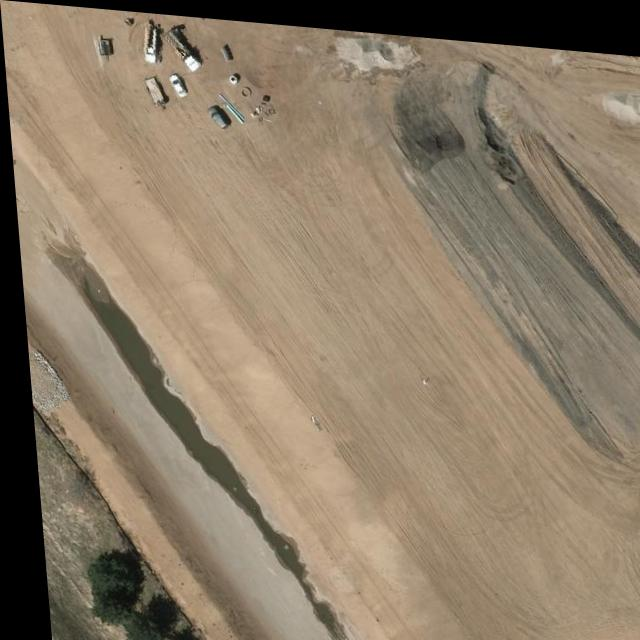vehicle: (162, 23, 205, 74), (137, 20, 165, 62), (205, 101, 228, 129), (168, 69, 187, 94)
